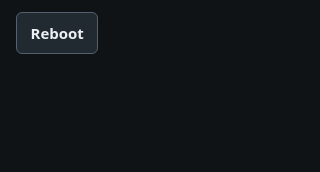
Test: command controls › reports function command success
The image size is (320, 172).
Step 1. Click the button "Reboot" → x=57, y=33, box [16,12,98,54]
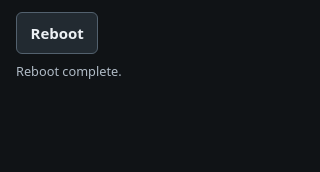
Now the message shows "Reboot complete", box [16,62,122,80]
